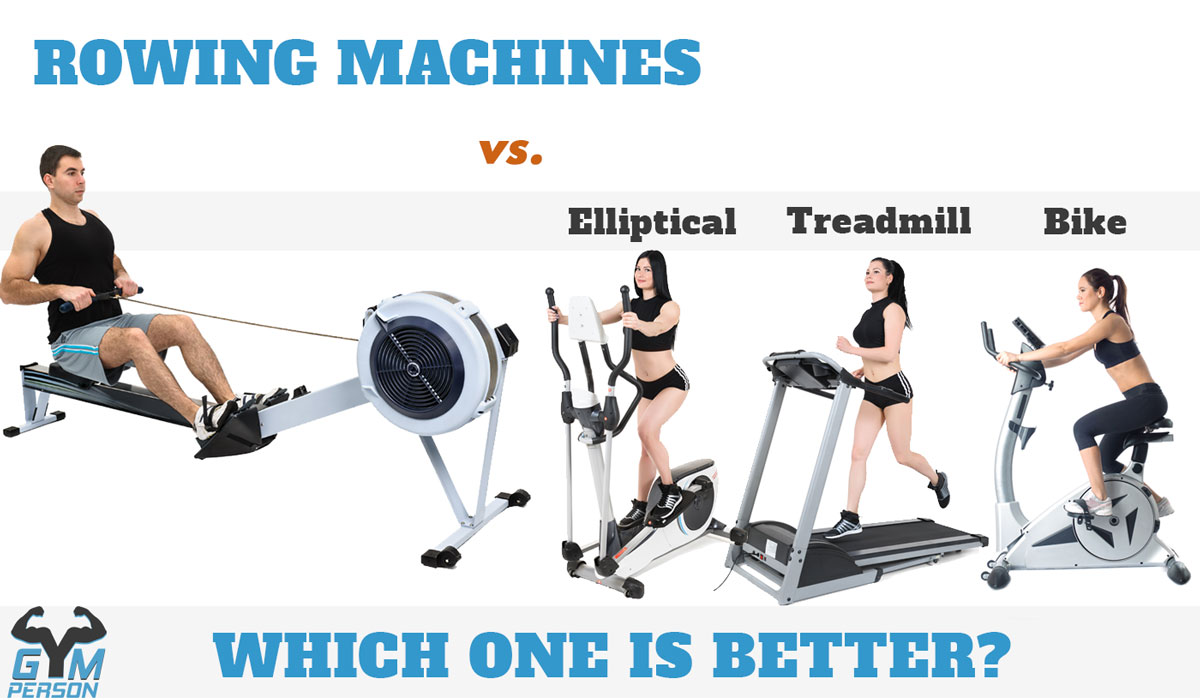gym_bike: (967, 343, 1181, 597)
